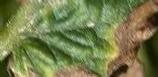Tomato Early blight leaf: (8, 0, 158, 77)
